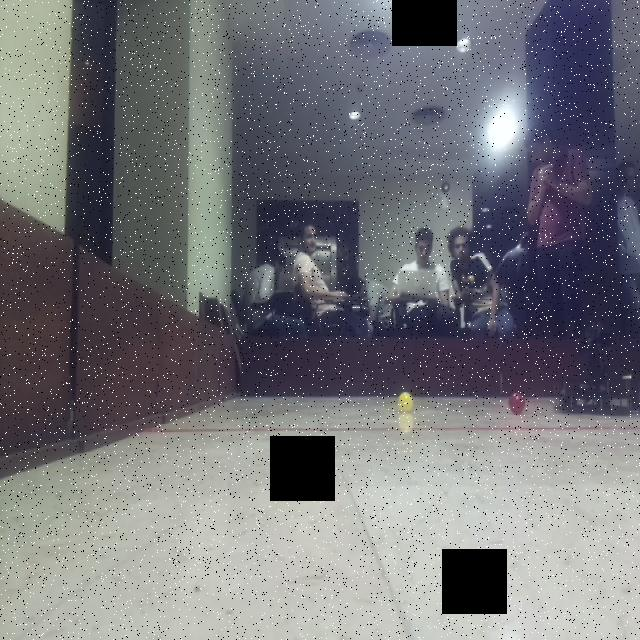ball: (506, 388, 530, 415), (393, 390, 419, 412)
